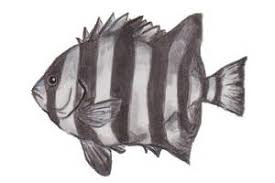azi: (23, 9, 237, 169)
